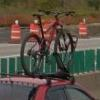Bicycle: (13, 5, 81, 79)
